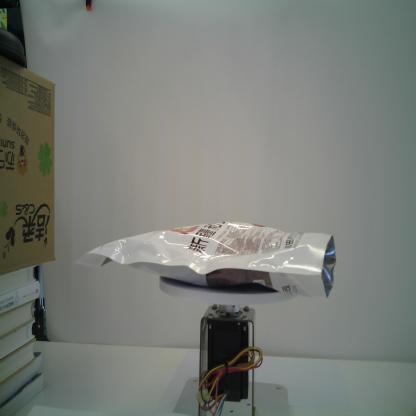Dried Food: (71, 216, 339, 303)
